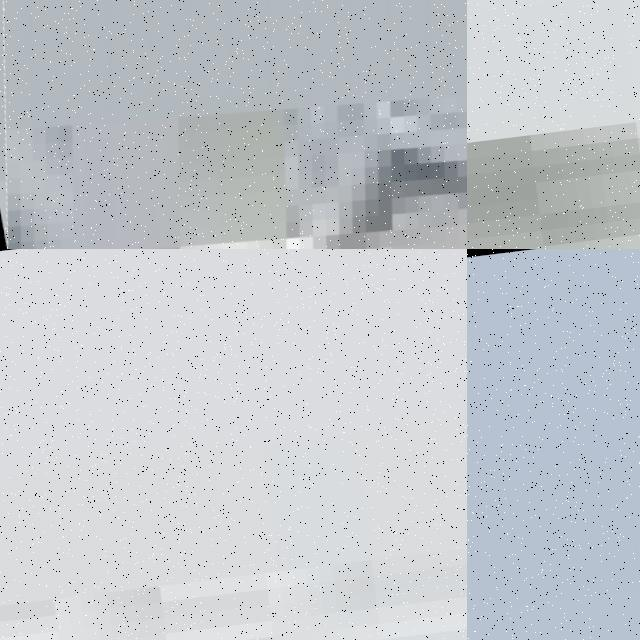drone: (0, 0, 467, 249)
